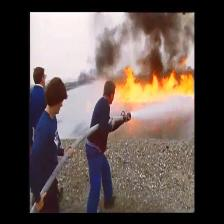fire: (116, 67, 193, 101)
